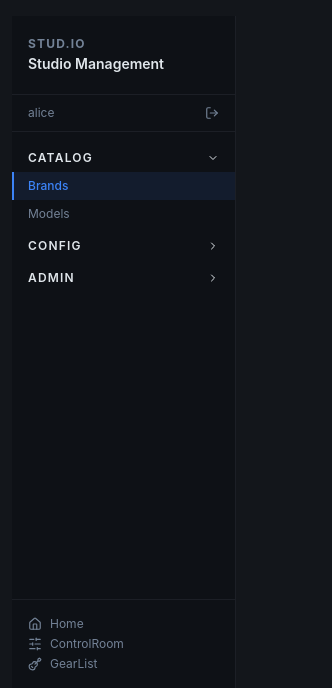
Test: UsersSidebar › collapses and expands the CATALOG group on toggle
Click the button "CATALOG" at [124, 158], box [12,144,235,172]
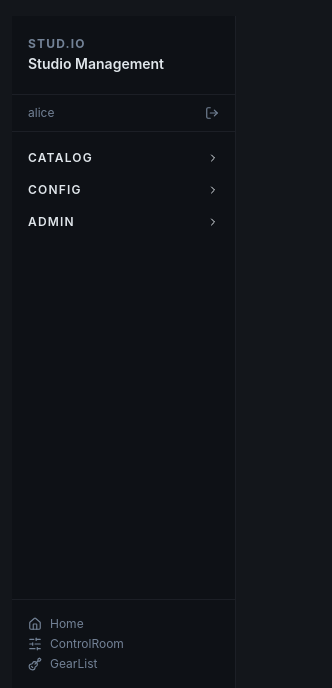
Check: the link "Brands" is gone
Click the button "CATALOG" at [124, 158], box [12,144,235,172]
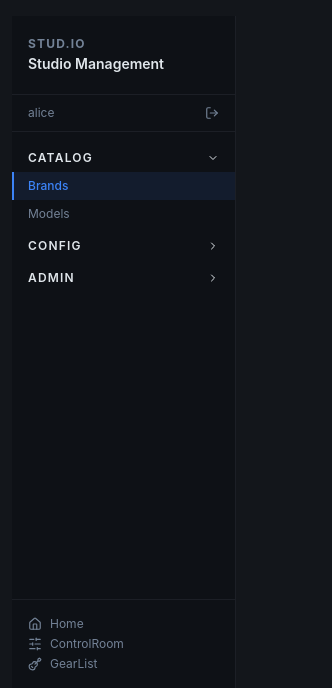
Check: the link "Brands" is shown, box [12,172,235,200]
